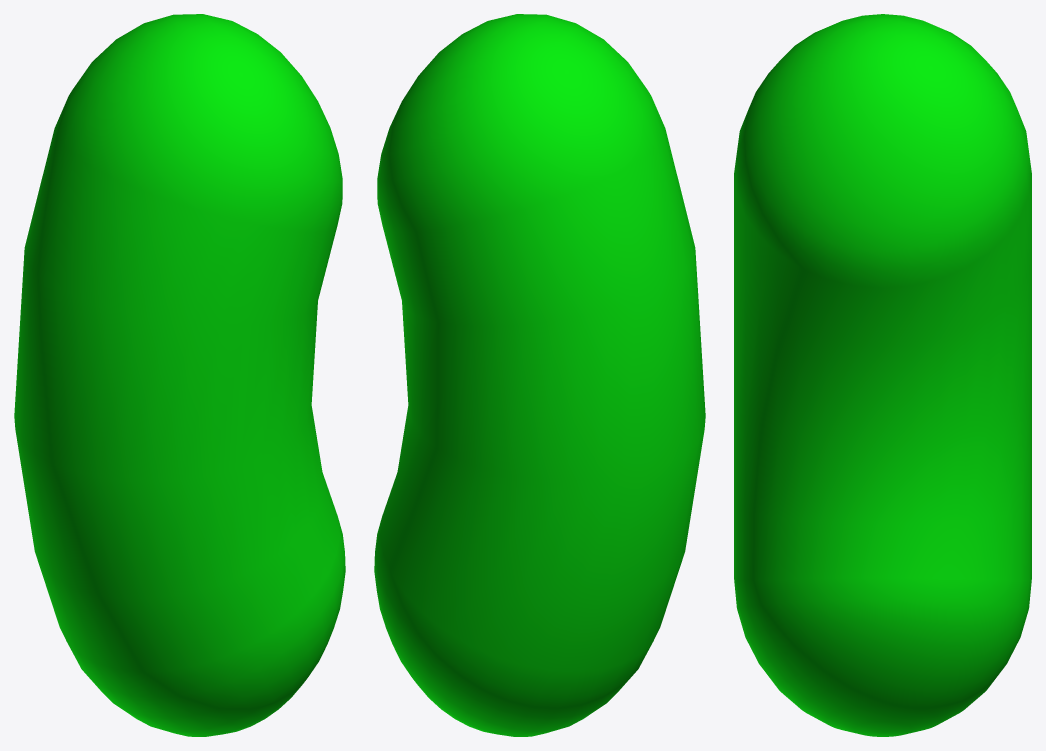
Rendered from greenCandy.fbx.
The picture shows the model from 3 angles, left to right: view 1: azimuth 30°, elevation 25°; view 2: azimuth 150°, elevation 25°; view 3: azimuth 270°, elevation 25°; orthographic projection.
Parts seen in each view (by area): view 1: GreenCandy; view 2: GreenCandy; view 3: GreenCandy.
Boxes of the visible parts, x1,y1,x2,y2 form: GreenCandy: (14,14,345,736); GreenCandy: (374,14,705,736); GreenCandy: (734,14,1031,736).
Size of the model in its own units: 225 by 519 by 200.
